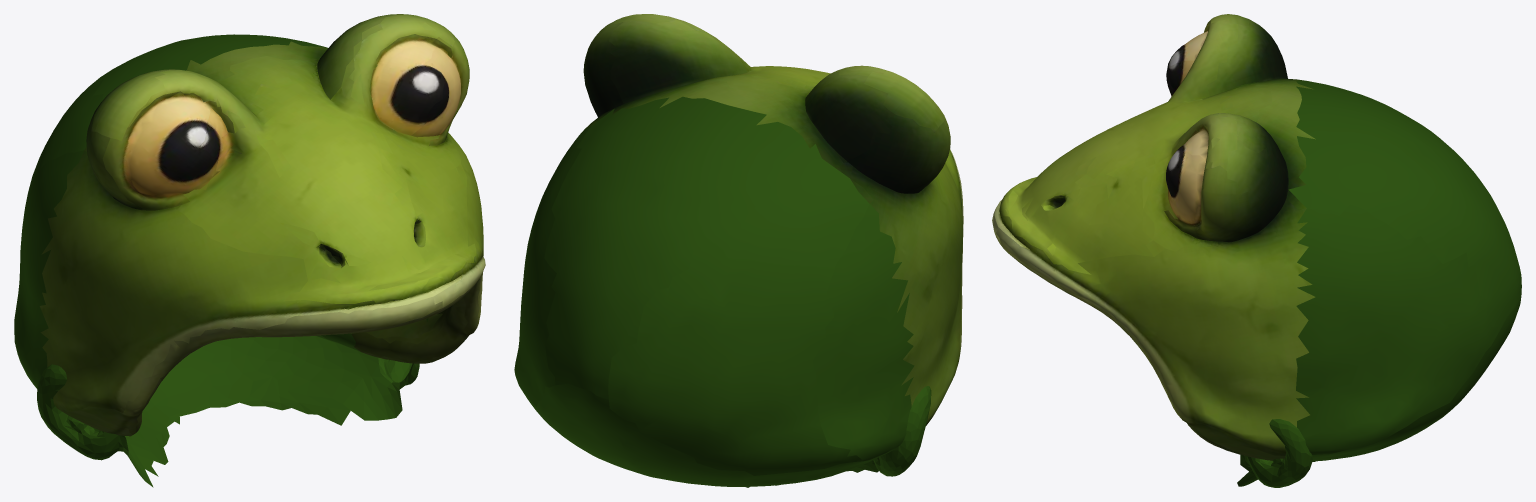
Rendered from frog.glb.
3 views of the same model, side by side, from view 1: azimuth 30°, elevation 25°; view 2: azimuth 150°, elevation 25°; view 3: azimuth 270°, elevation 25° (orthographic). The views are drawn at different scales.
Parts seen in each view (by area): view 1: geometry_0, HoodAnatomicalLining; view 2: geometry_0, HoodAnatomicalLining; view 3: geometry_0, HoodAnatomicalLining.
Boxes of the visible parts, box(x1,y1,x2,y2) form: geometry_0: box(14, 14, 485, 436); HoodAnatomicalLining: box(37, 318, 428, 487); geometry_0: box(514, 14, 963, 486); HoodAnatomicalLining: box(746, 386, 931, 487); geometry_0: box(992, 14, 1521, 461); HoodAnatomicalLining: box(1237, 419, 1315, 487).
Bounding box in the file's own units: 0.515 × 0.5121 × 0.6661.
Materials: 2 (1 with a texture image).
